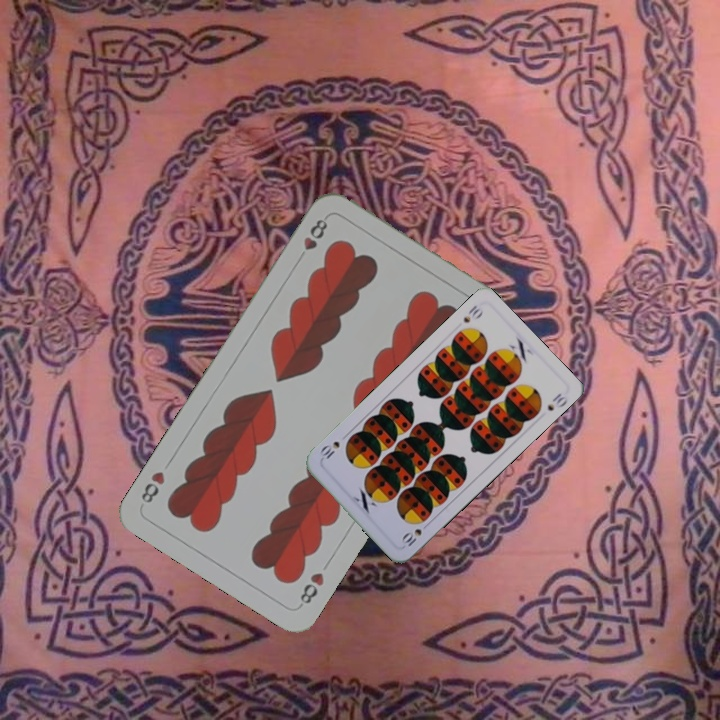H8: (294, 568, 327, 610), (299, 215, 330, 253)
S10: (397, 518, 432, 550), (459, 301, 486, 326)
